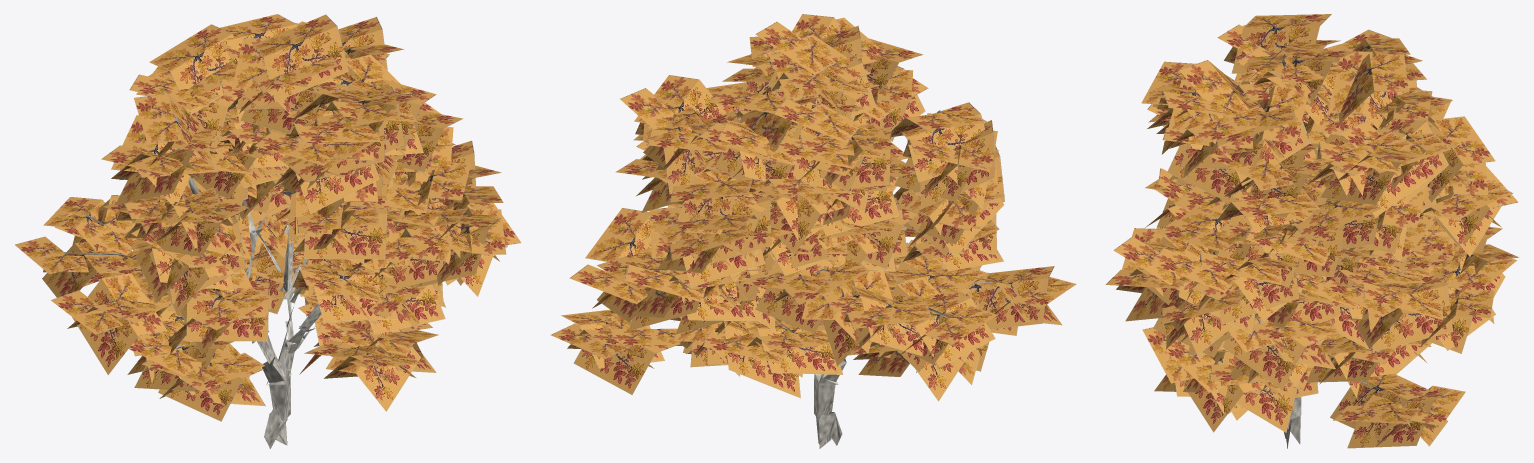
Rendered from tree_3.obj.
The picture shows the model from 3 angles, left to right: view 1: azimuth 30°, elevation 25°; view 2: azimuth 150°, elevation 25°; view 3: azimuth 270°, elevation 25°; orthographic projection. The views are drawn at different scales.
Parts seen in each view (by area): view 1: Wallnut_; view 2: Wallnut_; view 3: Wallnut_.
Boxes of the visible parts, x1,y1,x2,y2 form: Wallnut_: (15,14,521,448); Wallnut_: (550,14,1076,448); Wallnut_: (1105,14,1519,448).
Size of the model in its own units: 1.55 by 1.41 by 1.27.
Materials: 1 (1 with a texture image).
